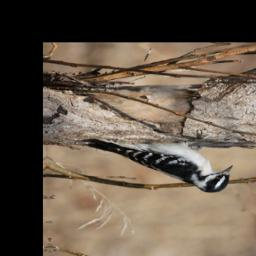Woodpecker: (78, 128, 234, 195)
